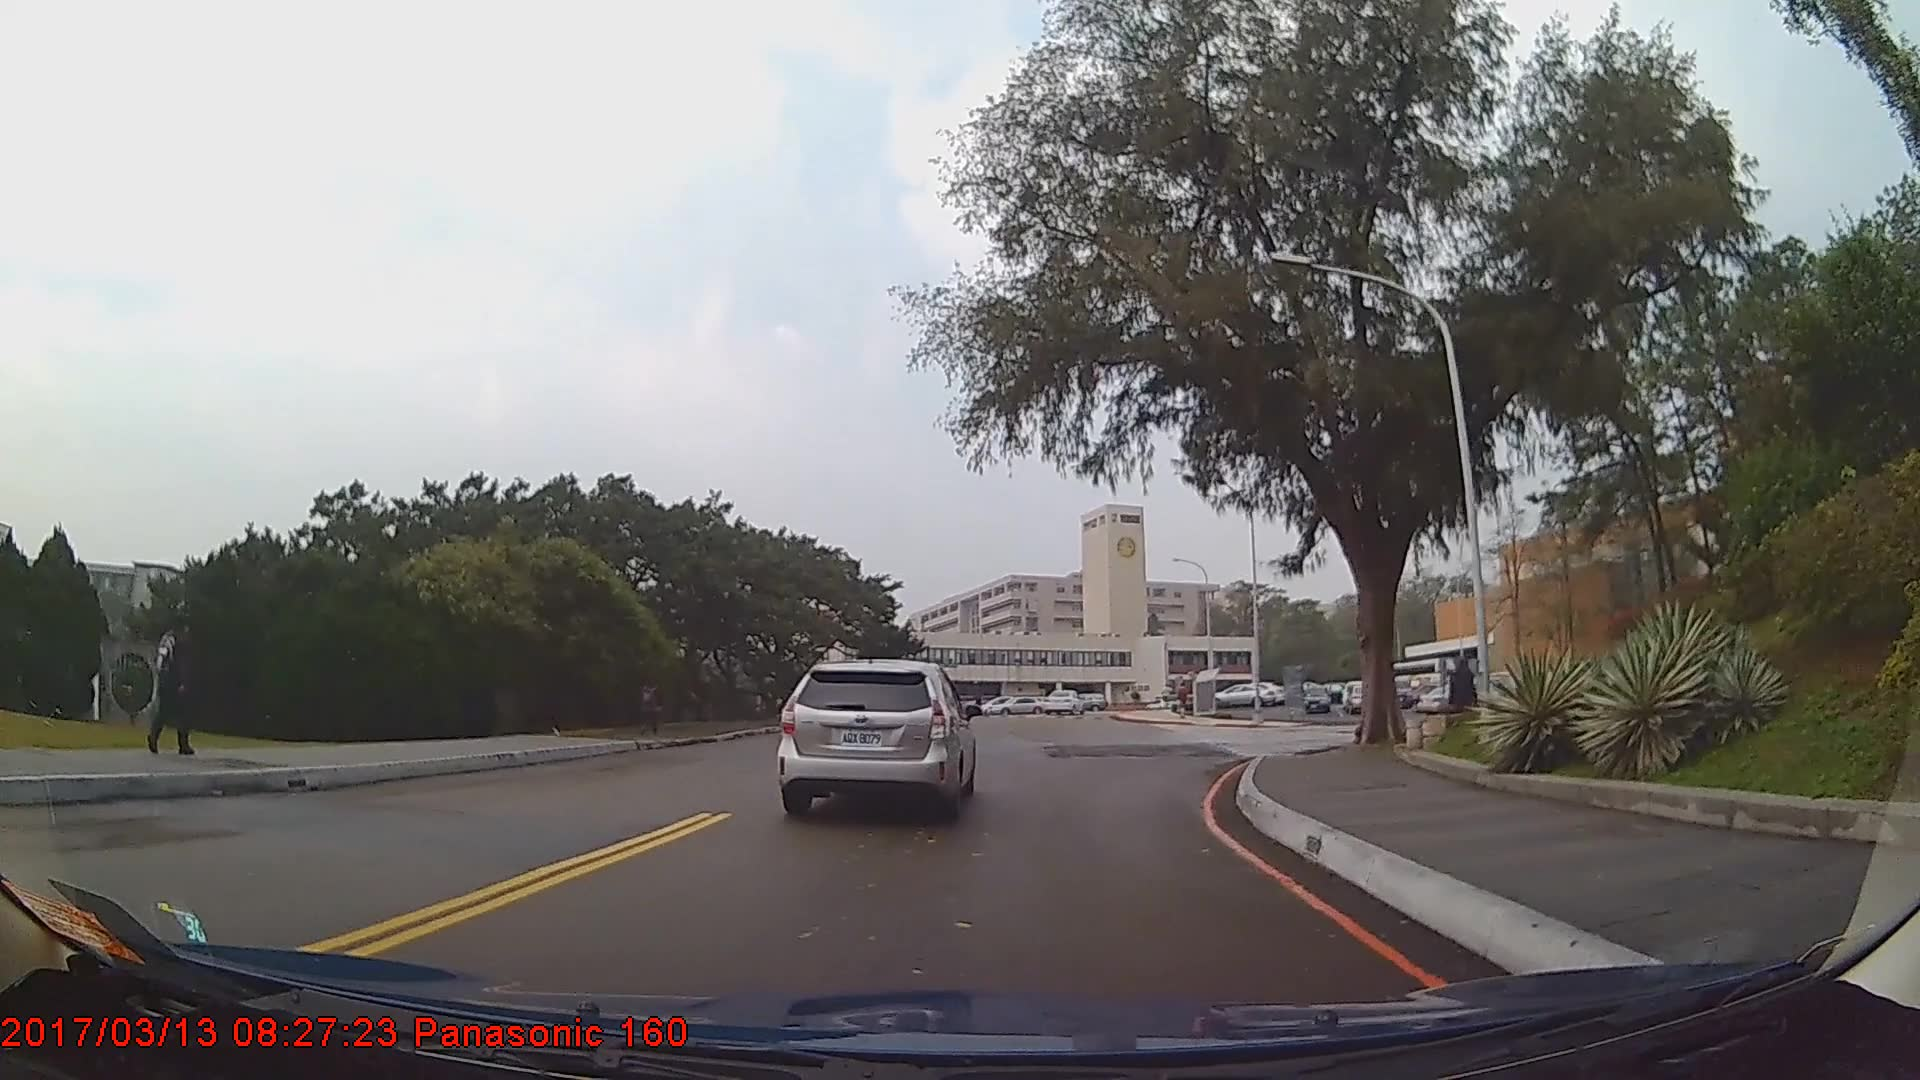pedestrian: (145, 611, 202, 751), (1447, 648, 1484, 756)
vehicle: (778, 657, 974, 818), (1414, 683, 1475, 714), (1213, 680, 1275, 708), (984, 694, 1049, 718), (1039, 688, 1085, 715), (1301, 687, 1329, 716), (1345, 683, 1371, 712)
